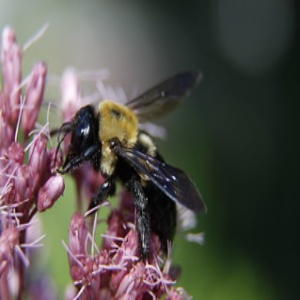bee: (56, 70, 213, 263)
